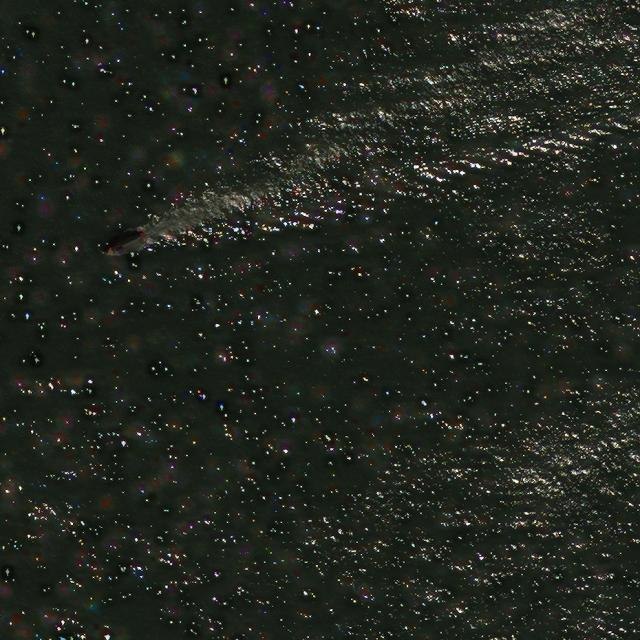Yacht: (98, 230, 151, 266)
